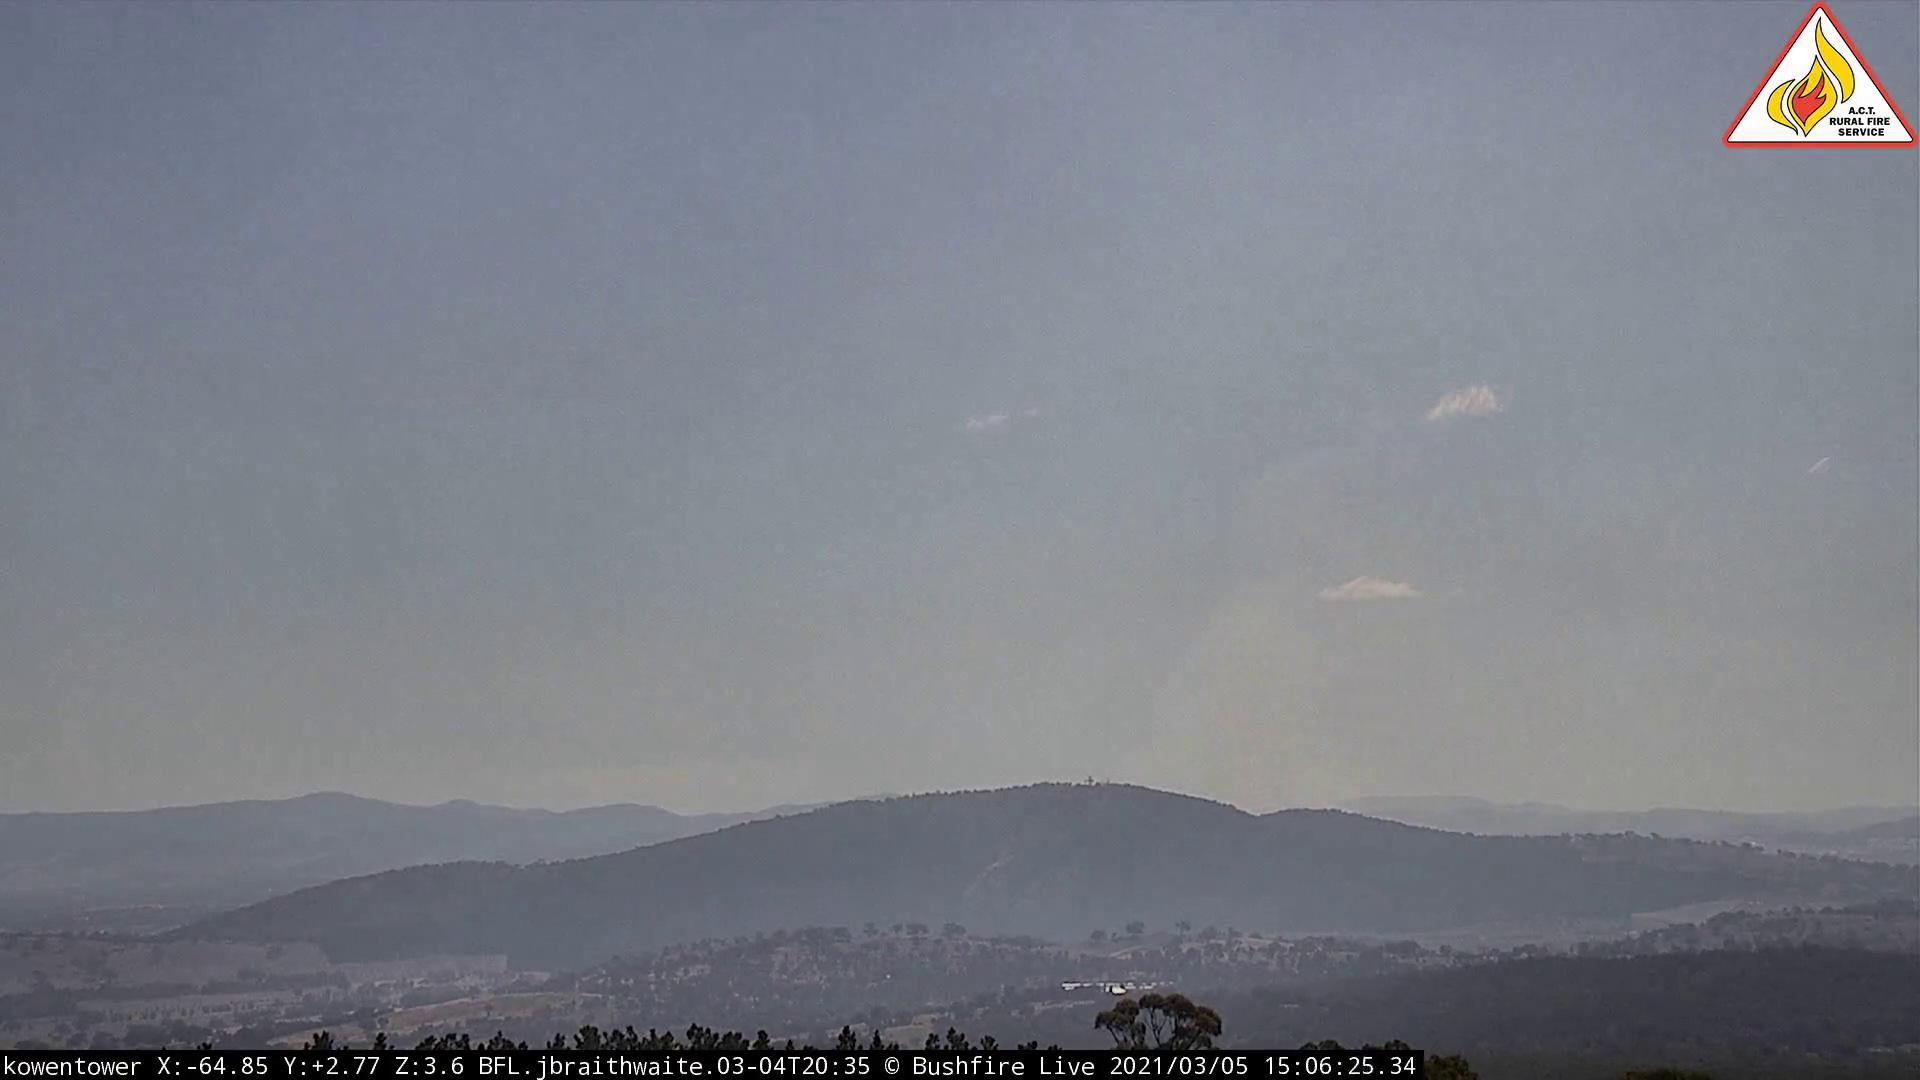Smoke: (1063, 443, 1611, 855)
